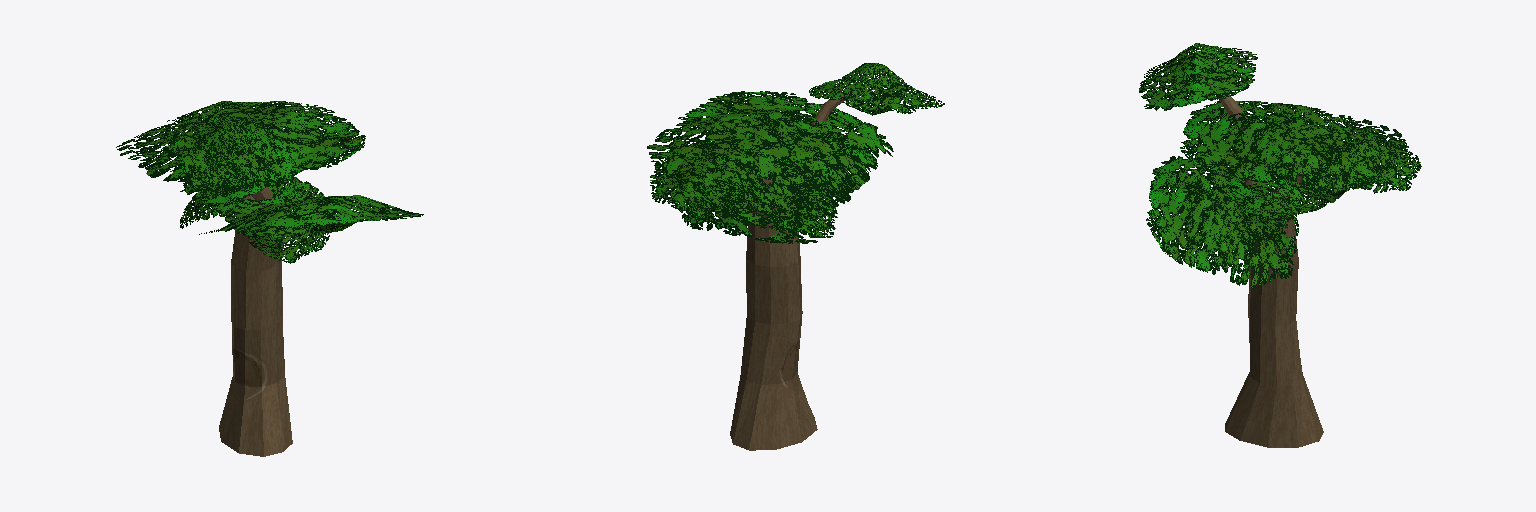
3 renders of one model, left to right at view 1: azimuth 30°, elevation 25°; view 2: azimuth 150°, elevation 25°; view 3: azimuth 270°, elevation 25°, orthographic.
Visible parts, largest first — view 1: tree, leaves10, leaves2, leaves13, leaves12, leaves3, leaves8, leaves1, leaves6; view 2: leaves10, tree, leaves1, leaves2, leaves13, leaves6, leaves3; view 3: leaves10, tree, leaves13, leaves2, leaves1, leaves7, leaves3, leaves12.
Part boxes in pixels (left/top/right/bottom): tree: left=219, top=227, right=292, bottom=456; leaves10: left=116, top=101, right=365, bottom=192; leaves2: left=166, top=117, right=296, bottom=199; leaves13: left=199, top=195, right=423, bottom=234; leaves12: left=219, top=181, right=329, bottom=263; leaves3: left=198, top=119, right=262, bottom=162; leaves8: left=180, top=136, right=300, bottom=207; leaves1: left=167, top=101, right=286, bottom=128; leaves6: left=180, top=193, right=238, bottom=228; leaves10: left=647, top=91, right=893, bottom=232; tree: left=730, top=206, right=817, bottom=450; leaves1: left=650, top=139, right=770, bottom=221; leaves2: left=809, top=78, right=944, bottom=113; leaves13: left=668, top=131, right=872, bottom=243; leaves6: left=767, top=187, right=835, bottom=237; leaves3: left=842, top=63, right=909, bottom=88; leaves10: left=1180, top=101, right=1408, bottom=193; tree: left=1225, top=201, right=1323, bottom=447; leaves13: left=1146, top=156, right=1298, bottom=288; leaves2: left=1139, top=48, right=1257, bottom=110; leaves1: left=1301, top=127, right=1421, bottom=193; leaves7: left=1236, top=180, right=1305, bottom=241; leaves3: left=1169, top=43, right=1226, bottom=77; leaves12: left=1179, top=176, right=1265, bottom=225.
Bounding box in the file's own units: 1165 × 1652 × 1193.
1 materials, 1 textured.